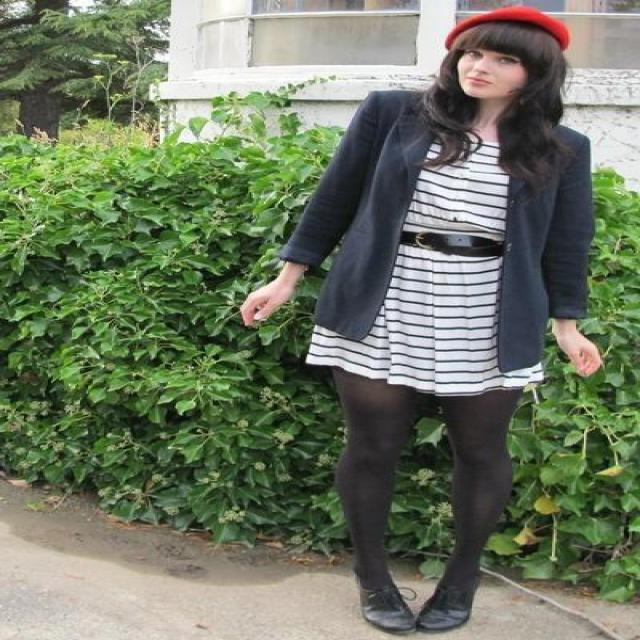dress: (306, 146, 546, 401)
hat: (480, 7, 555, 28)
jacket: (288, 90, 608, 370)
shoe: (360, 589, 467, 639)
